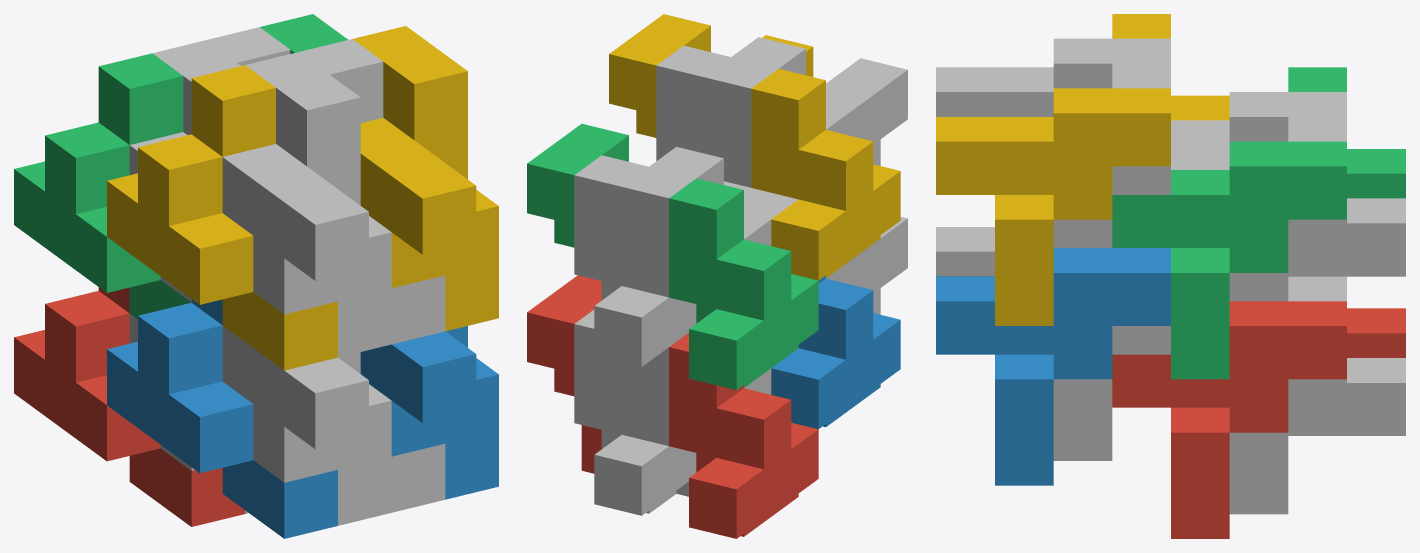
The model's file is tiling.obj.
The picture shows the model from 3 angles, left to right: view 1: azimuth 30°, elevation 25°; view 2: azimuth 150°, elevation 25°; view 3: azimuth 270°, elevation 25°; orthographic projection. The views are drawn at different scales.
Visible parts, largest first — view 1: copy_2_domain_4, copy_1_domain_4, copy_2_domain_8, copy_1_domain_2, copy_1_domain_3, copy_2_domain_2, copy_1_domain_1, copy_2_domain_6, copy_1_domain_8, copy_1_domain_6, copy_2_domain_3, copy_2_domain_7 (+1 smaller); view 2: copy_1_domain_3, copy_1_domain_4, copy_1_domain_1, copy_1_domain_7, copy_1_domain_5, copy_1_domain_2, copy_2_domain_4, copy_1_domain_8, copy_2_domain_3, copy_2_domain_8, copy_2_domain_7, copy_2_domain_5 (+2 smaller); view 3: copy_2_domain_8, copy_2_domain_7, copy_2_domain_6, copy_2_domain_5, copy_1_domain_5, copy_1_domain_7, copy_2_domain_4, copy_1_domain_6, copy_1_domain_8, copy_2_domain_3, copy_1_domain_3, copy_1_domain_4 (+2 smaller).
Boxes of the visible parts, x1=… form: copy_2_domain_4: x1=222, y1=52, x2=391, y2=357; copy_1_domain_4: x1=107, y1=65, x2=337, y2=370; copy_2_domain_8: x1=353, y1=26, x2=498, y2=331; copy_1_domain_2: x1=107, y1=299, x2=337, y2=538; copy_1_domain_3: x1=14, y1=53, x2=190, y2=319; copy_2_domain_2: x1=222, y1=326, x2=391, y2=525; copy_1_domain_1: x1=14, y1=287, x2=245, y2=526; copy_2_domain_6: x1=360, y1=326, x2=498, y2=499; copy_1_domain_8: x1=299, y1=39, x2=445, y2=344; copy_1_domain_6: x1=391, y1=443, x2=445, y2=512; copy_2_domain_3: x1=129, y1=40, x2=240, y2=302; copy_2_domain_7: x1=260, y1=14, x2=347, y2=53; copy_1_domain_3: x1=669, y1=178, x2=818, y2=389; copy_1_domain_4: x1=751, y1=68, x2=900, y2=280; copy_1_domain_1: x1=669, y1=333, x2=818, y2=538; copy_1_domain_7: x1=574, y1=155, x2=696, y2=366; copy_1_domain_5: x1=574, y1=310, x2=696, y2=515; copy_1_domain_2: x1=771, y1=275, x2=900, y2=429; copy_2_domain_4: x1=703, y1=37, x2=907, y2=165; copy_1_domain_8: x1=656, y1=45, x2=751, y2=192; copy_2_domain_3: x1=621, y1=147, x2=798, y2=247; copy_2_domain_8: x1=609, y1=14, x2=813, y2=137; copy_2_domain_7: x1=527, y1=123, x2=628, y2=247; copy_2_domain_5: x1=527, y1=275, x2=601, y2=473; copy_2_domain_8: x1=936, y1=88, x2=1170, y2=325; copy_2_domain_7: x1=1112, y1=141, x2=1346, y2=379; copy_2_domain_6: x1=936, y1=248, x2=1170, y2=485; copy_2_domain_5: x1=1112, y1=301, x2=1346, y2=538; copy_1_domain_5: x1=1229, y1=276, x2=1405, y2=514; copy_1_domain_7: x1=1229, y1=117, x2=1405, y2=301; copy_2_domain_4: x1=936, y1=38, x2=1170, y2=116; copy_1_domain_6: x1=1053, y1=326, x2=1170, y2=460; copy_1_domain_8: x1=1053, y1=63, x2=1229, y2=247; copy_2_domain_3: x1=1171, y1=92, x2=1346, y2=145; copy_1_domain_3: x1=1288, y1=67, x2=1405, y2=198; copy_1_domain_4: x1=1112, y1=14, x2=1229, y2=120.
Bounding box in the file's own units: 5 × 8 × 8.
